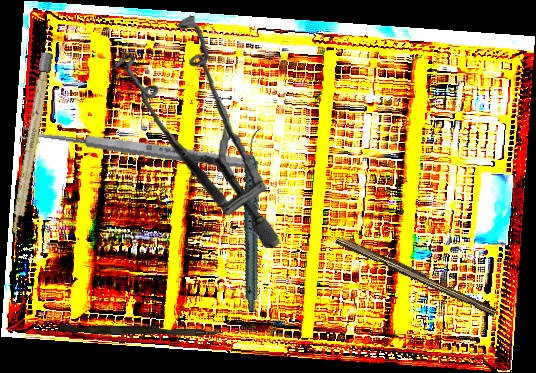Handpiece: (209, 126, 298, 313)
Pusher: (58, 324, 223, 336)
Scalpel Handle: (333, 233, 500, 317), (8, 51, 54, 241)
Speculum: (103, 11, 293, 249)
Surgical Spoon: (20, 124, 247, 171)
